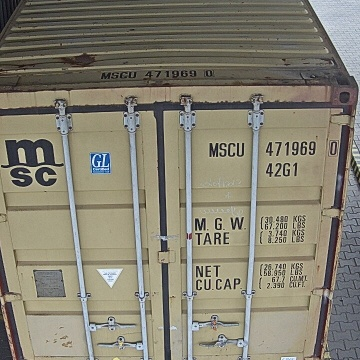serial_id: (209, 140, 338, 156)
